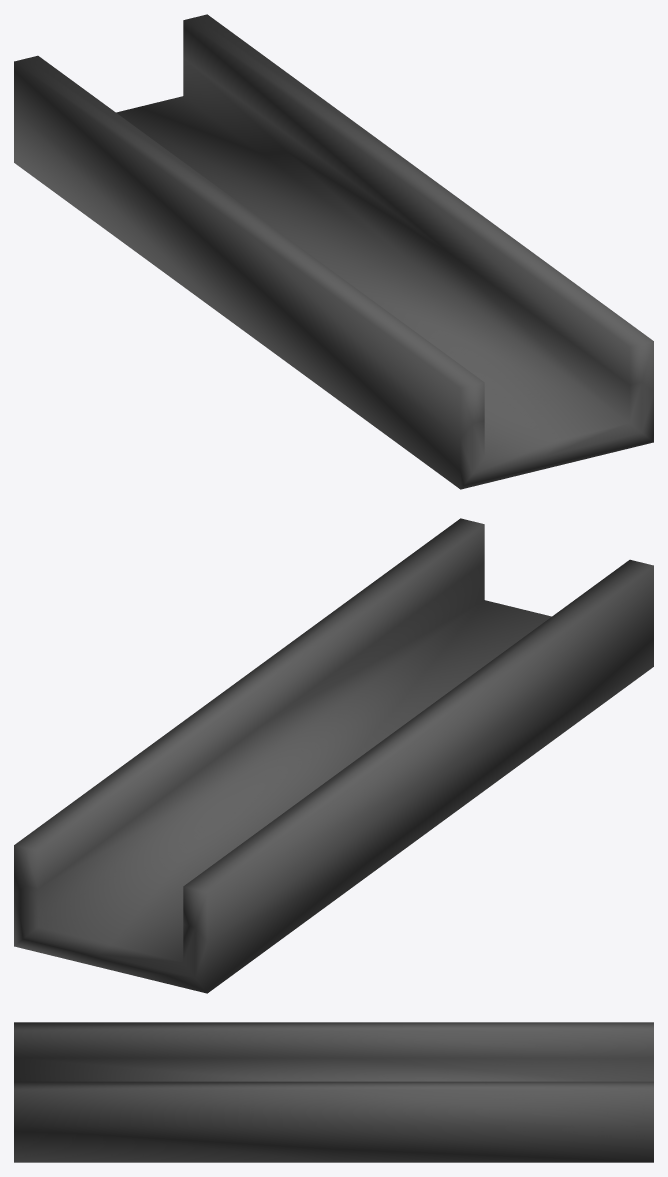
3 views of the same model, one above another, from view 1: azimuth 30°, elevation 25°; view 2: azimuth 150°, elevation 25°; view 3: azimuth 270°, elevation 25° (orthographic). The views are drawn at different scales.
Visible parts, largest first — view 1: defaultobject; view 2: defaultobject; view 3: defaultobject.
Boxes of the visible parts, <box> form: defaultobject: <box>14,14,653,489</box>; defaultobject: <box>14,518,653,993</box>; defaultobject: <box>14,1022,653,1162</box>.
Bounding box in the file's own units: 0.25 × 0.125 × 1.
1 material, 1 textured.
